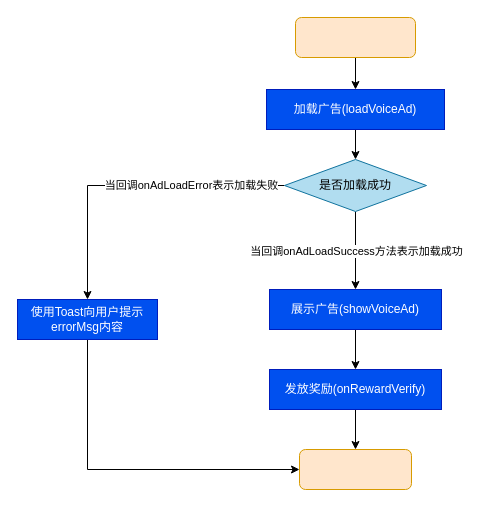
Image size: 480x507. Some labels were removed from this diagram. Here are the shapes that lost their labels. From the top down, the centre of each, then its label:
At (x=355, y=37): "初始化SDK (init)".
At (x=355, y=469): "结束".
